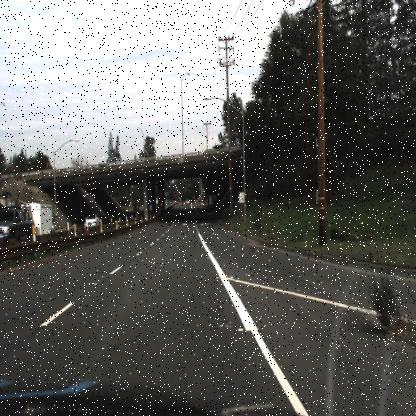car: (82, 212, 102, 230), (106, 154, 127, 167), (200, 144, 218, 157)
